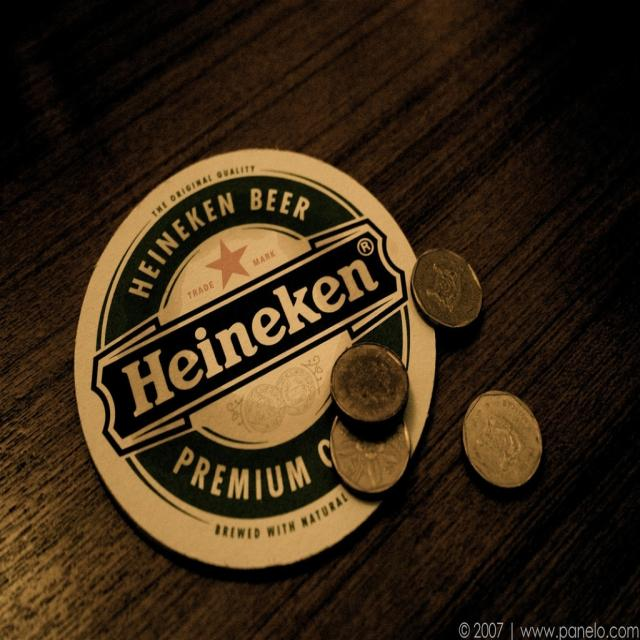heineken: (94, 170, 413, 520)
